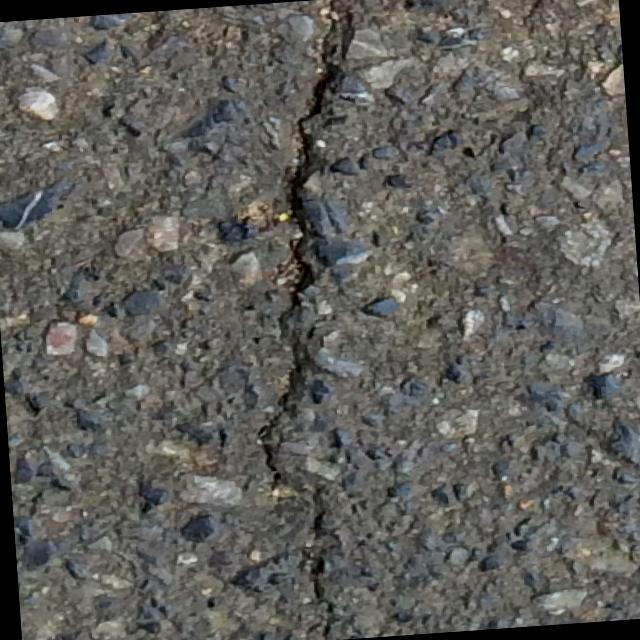crack: (205, 0, 407, 640)
